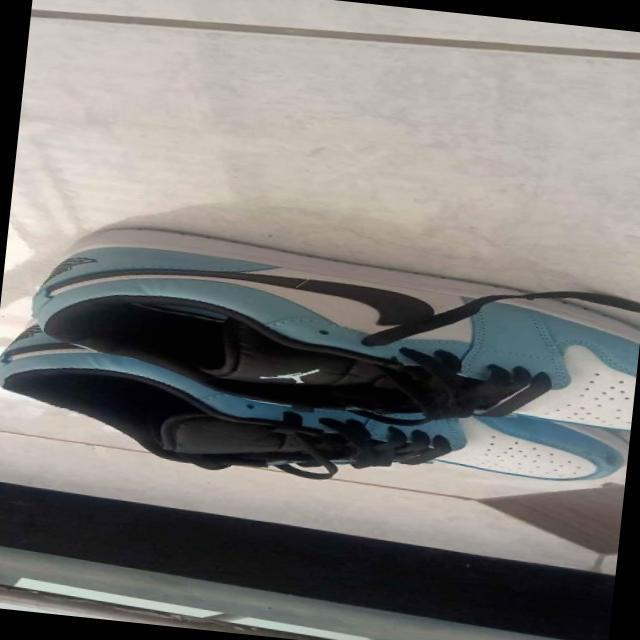nike fake jordan 1: (0, 226, 640, 434), (0, 365, 630, 511)
